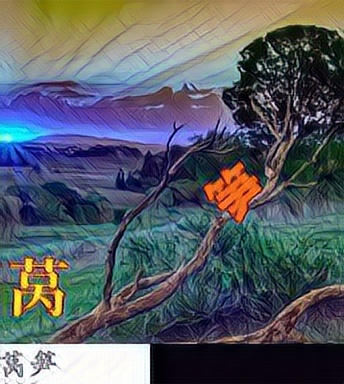CBF1: (202, 159, 262, 223)
DDAB: (7, 253, 67, 317)
